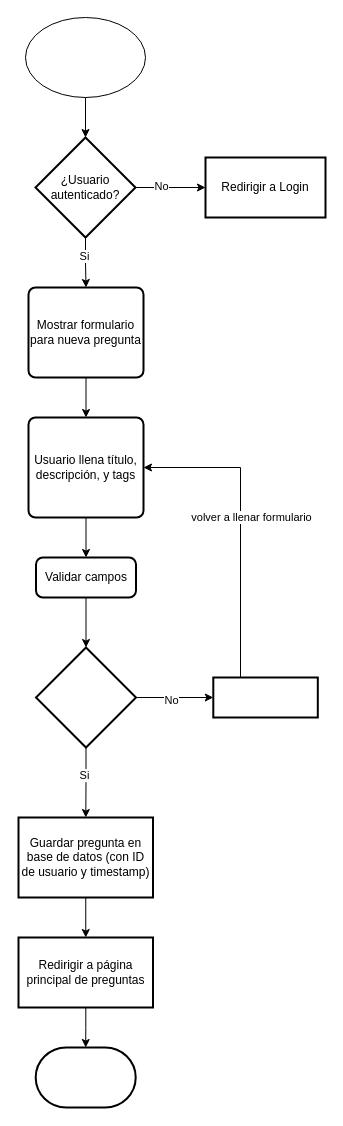
This 343x1126 diagram has some shape labels left out. The shapes that lost their labels are listed below. From the top down, each one's centre as x and y in pixels, then its label:
the point at 85,57: Inicio
the point at 85,697: ¿Datos válidos?
the point at 265,697: Mostrar mensaje de error
the point at 85,1077: Fin
